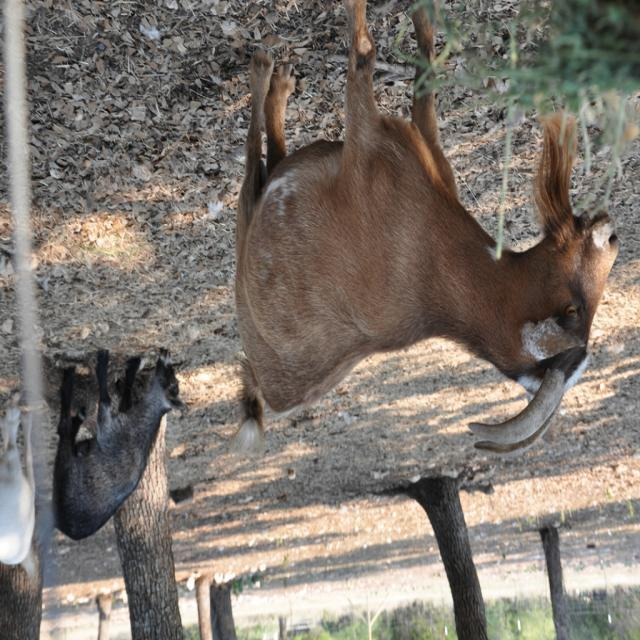Goat: (231, 2, 620, 460), (52, 347, 187, 543), (2, 407, 40, 582)
